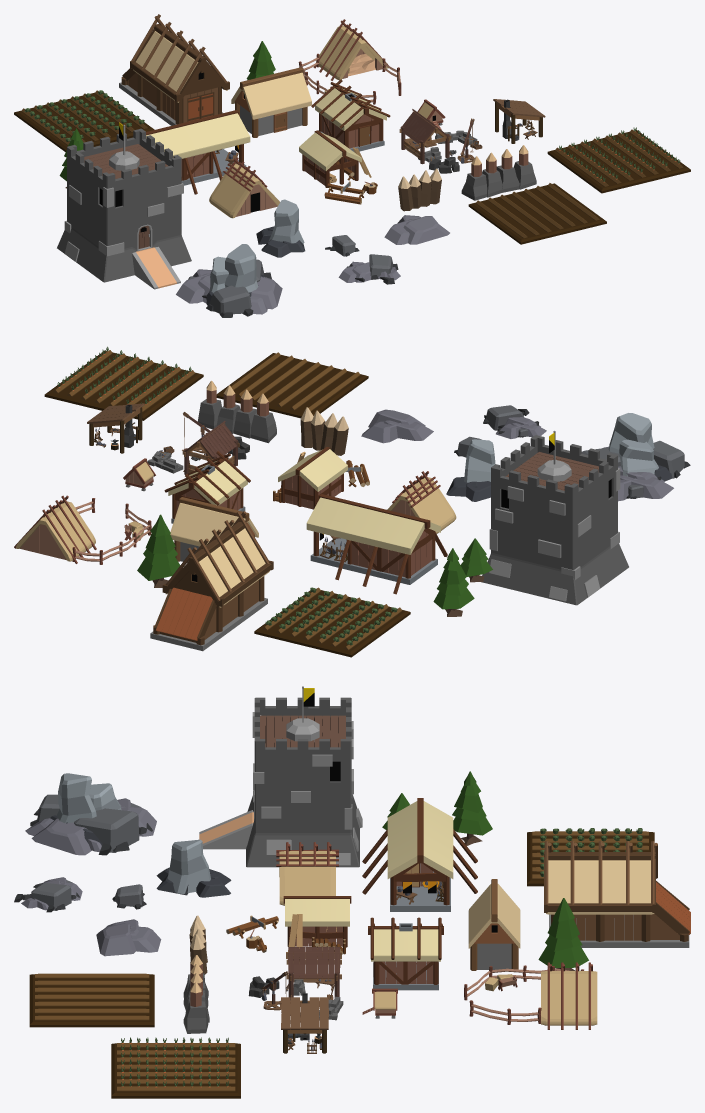
File: Medival Town Assets.fbx
3 views of the same model, one above another, from view 1: azimuth 30°, elevation 25°; view 2: azimuth 150°, elevation 25°; view 3: azimuth 270°, elevation 25° (orthographic). The views are drawn at different scales.
Visible parts, largest first — view 1: Medival Village Asset.004, Medival Village Asset.002, Medival Village Asset.017, Medival Village Asset.015, Medival Village Asset.005, Medival Village Asset.003, Medival Village Asset.016, Medival Village Asset.001, Medival Village Asset, Medival Village Asset.022, Medival Village Asset.019, Medival Village Asset.021 (+8 smaller); view 2: Medival Village Asset.004, Medival Village Asset.002, Medival Village Asset.003, Medival Village Asset.016, Medival Village Asset.017, Medival Village Asset.015, Medival Village Asset.005, Medival Village Asset.019, Medival Village Asset.022, Medival Village Asset, Medival Village Asset.014, Medival Village Asset.001 (+11 smaller); view 3: Medival Village Asset.004, Medival Village Asset.002, Medival Village Asset.003, Medival Village Asset.017, Medival Village Asset.005, Medival Village Asset.015, Medival Village Asset.019, Medival Village Asset, Medival Village Asset.022, Medival Village Asset.001, Medival Village Asset.021, Medival Village Asset.016 (+11 smaller).
Part boxes in pixels (x1,y1,x2,y2): Medival Village Asset.004: (57, 122, 191, 289); Medival Village Asset.002: (119, 14, 229, 125); Medival Village Asset.017: (547, 127, 690, 193); Medival Village Asset.015: (468, 183, 606, 244); Medival Village Asset.005: (176, 244, 282, 317); Medival Village Asset.003: (146, 110, 250, 194); Medival Village Asset.016: (14, 90, 154, 152); Medival Village Asset.001: (231, 67, 311, 137); Medival Village Asset: (311, 79, 390, 152); Medival Village Asset.022: (299, 130, 377, 204); Medival Village Asset.019: (298, 19, 401, 104); Medival Village Asset.021: (399, 109, 482, 173); Medival Village Asset.004: (481, 430, 628, 605); Medival Village Asset.002: (150, 511, 273, 651); Medival Village Asset.003: (306, 494, 447, 594); Medival Village Asset.016: (254, 587, 410, 657); Medival Village Asset.017: (44, 346, 203, 420); Medival Village Asset.015: (216, 352, 368, 418); Medival Village Asset.005: (581, 413, 690, 501); Medival Village Asset.019: (14, 495, 151, 564); Medival Village Asset.022: (273, 447, 369, 509); Medival Village Asset: (164, 451, 250, 523); Medival Village Asset.014: (197, 380, 276, 443); Medival Village Asset.001: (170, 497, 258, 562); Medival Village Asset.004: (199, 686, 362, 867); Medival Village Asset.002: (544, 841, 690, 947); Medival Village Asset.003: (362, 798, 477, 911); Medival Village Asset.017: (111, 1037, 240, 1098); Medival Village Asset.005: (25, 773, 156, 855); Medival Village Asset.015: (29, 973, 154, 1027); Medival Village Asset.019: (464, 962, 597, 1029); Medival Village Asset: (368, 917, 443, 990); Medival Village Asset.022: (226, 896, 351, 954); Medival Village Asset.001: (468, 879, 520, 970); Medival Village Asset.021: (248, 947, 343, 1020); Medival Village Asset.016: (527, 828, 654, 886).
Size of the model in its own units: 64.53 by 59.47 by 15.05.
